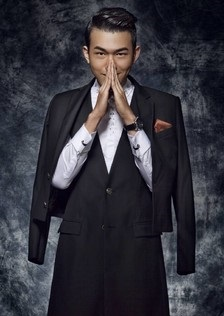face: (89, 27, 132, 90)
